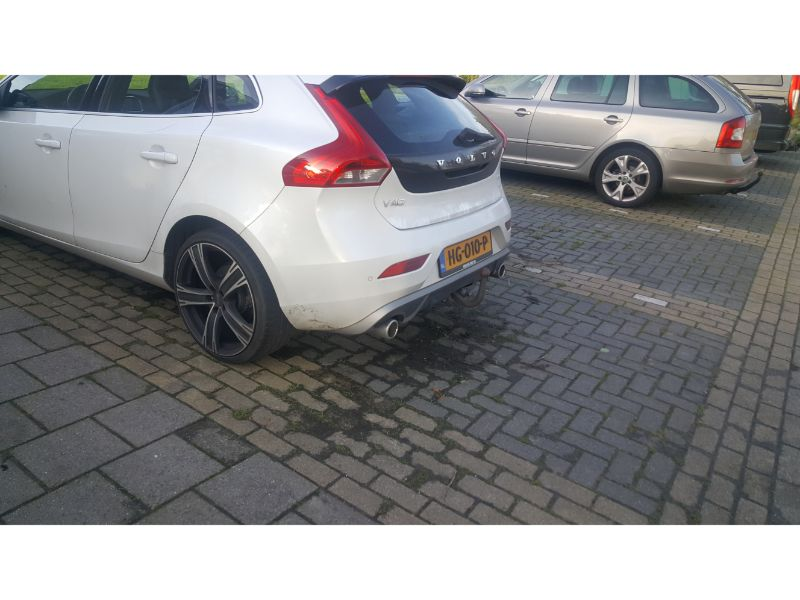kenteken: (443, 228, 493, 273)
